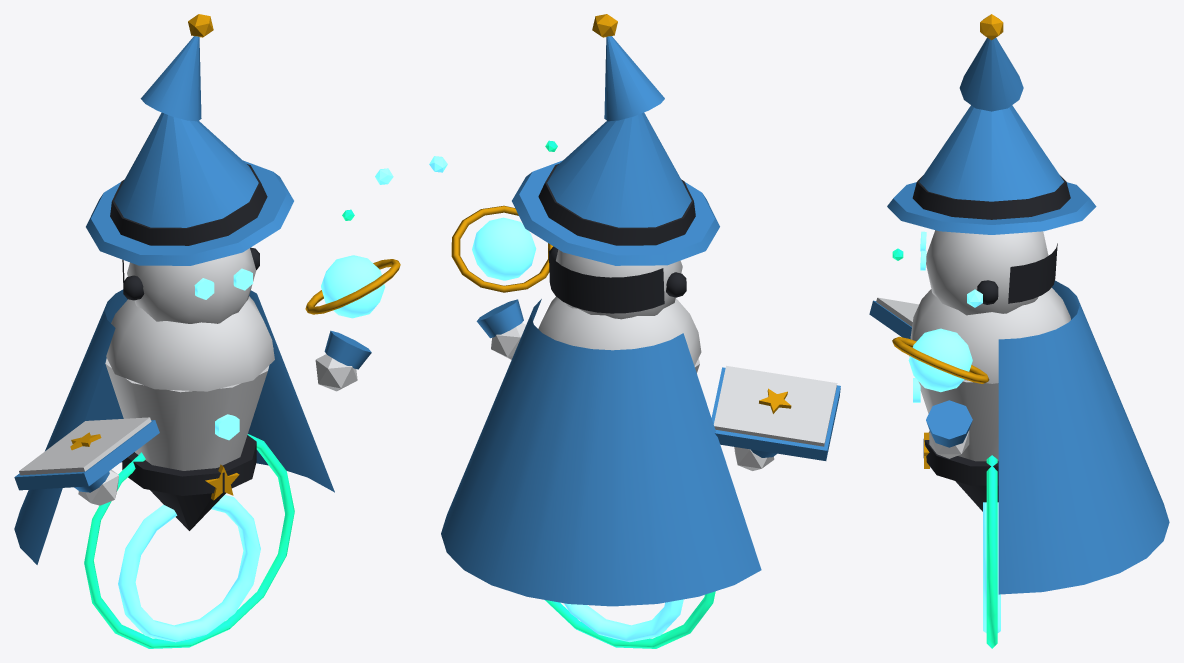
Rendered from player-robot-3.glb.
The picture shows the model from 3 angles, left to right: view 1: azimuth 30°, elevation 25°; view 2: azimuth 150°, elevation 25°; view 3: azimuth 270°, elevation 25°; orthographic projection.
Parts seen in each view (by area): view 1: cape, torso_dome, hat_cone_lower, torso, hover_ring, hat_brim, skull, hover_ring_outer, book_pages, hat_band, belt, hat_cone_tip (+7 smaller); view 2: cape, hat_cone_lower, book_pages, hat_brim, torso_dome, visor, hat_band, orb, hat_cone_tip, skull, book_cover, hover_ring (+4 smaller); view 3: cape, hat_cone_lower, skull, torso_dome, hat_brim, torso, hat_cone_tip, hat_band, orb, hover_ring_outer, visor, hand_r_cuff (+8 smaller).
Part boxes in pixels (x1=…): cape: x1=14, y1=289, x2=334, y2=564; torso_dome: x1=106, y1=296, x2=274, y2=391; hat_cone_lower: x1=114, y1=112, x2=258, y2=227; torso: x1=105, y1=348, x2=273, y2=470; hover_ring: x1=118, y1=495, x2=260, y2=642; hat_brim: x1=86, y1=160, x2=293, y2=265; skull: x1=127, y1=248, x2=256, y2=323; hover_ring_outer: x1=84, y1=434, x2=294, y2=648; book_pages: x1=19, y1=417, x2=151, y2=475; hat_band: x1=110, y1=164, x2=267, y2=245; belt: x1=122, y1=435, x2=256, y2=495; hat_cone_tip: x1=140, y1=36, x2=201, y2=121; cape: x1=441, y1=299, x2=761, y2=606; hat_cone_lower: x1=547, y1=112, x2=691, y2=227; book_pages: x1=713, y1=365, x2=837, y2=446; hat_brim: x1=512, y1=160, x2=719, y2=265; torso_dome: x1=538, y1=296, x2=701, y2=365; visor: x1=548, y1=248, x2=664, y2=313; hat_band: x1=538, y1=164, x2=695, y2=245; orb: x1=472, y1=217, x2=536, y2=280; hat_cone_tip: x1=604, y1=36, x2=664, y2=121; skull: x1=556, y1=249, x2=682, y2=319; book_cover: x1=711, y1=367, x2=840, y2=460; hover_ring: x1=564, y1=599, x2=683, y2=642; cape: x1=998, y1=280, x2=1169, y2=594; hat_cone_lower: x1=919, y1=105, x2=1063, y2=201; skull: x1=926, y1=230, x2=1048, y2=315; torso_dome: x1=910, y1=287, x2=1070, y2=383; hat_brim: x1=887, y1=182, x2=1096, y2=234; torso: x1=909, y1=356, x2=998, y2=461; hat_cone_tip: x1=959, y1=37, x2=1023, y2=111; hat_band: x1=912, y1=175, x2=1070, y2=219; orb: x1=908, y1=328, x2=972, y2=392; hover_ring_outer: x1=986, y1=455, x2=997, y2=648; visor: x1=1008, y1=243, x2=1057, y2=303; hand_r_cuff: x1=926, y1=400, x2=972, y2=447.
Size of the model in its own units: 1.04 by 1.62 by 0.7019.
